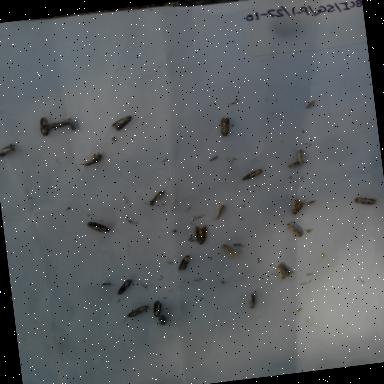pbw: (168, 248, 201, 278), (210, 111, 240, 141), (183, 222, 214, 248), (234, 287, 264, 313), (270, 256, 296, 284), (82, 216, 113, 239), (108, 112, 138, 133), (349, 191, 379, 211), (122, 302, 152, 320), (238, 166, 267, 184), (80, 150, 106, 170), (280, 220, 306, 240), (218, 240, 237, 266), (149, 296, 168, 321), (112, 276, 135, 296), (146, 188, 169, 208), (34, 113, 52, 138), (39, 118, 70, 132), (284, 198, 306, 217), (211, 202, 230, 222), (0, 141, 18, 160), (300, 96, 320, 113), (62, 116, 78, 136), (152, 312, 170, 328), (294, 147, 308, 167), (282, 160, 308, 170)
